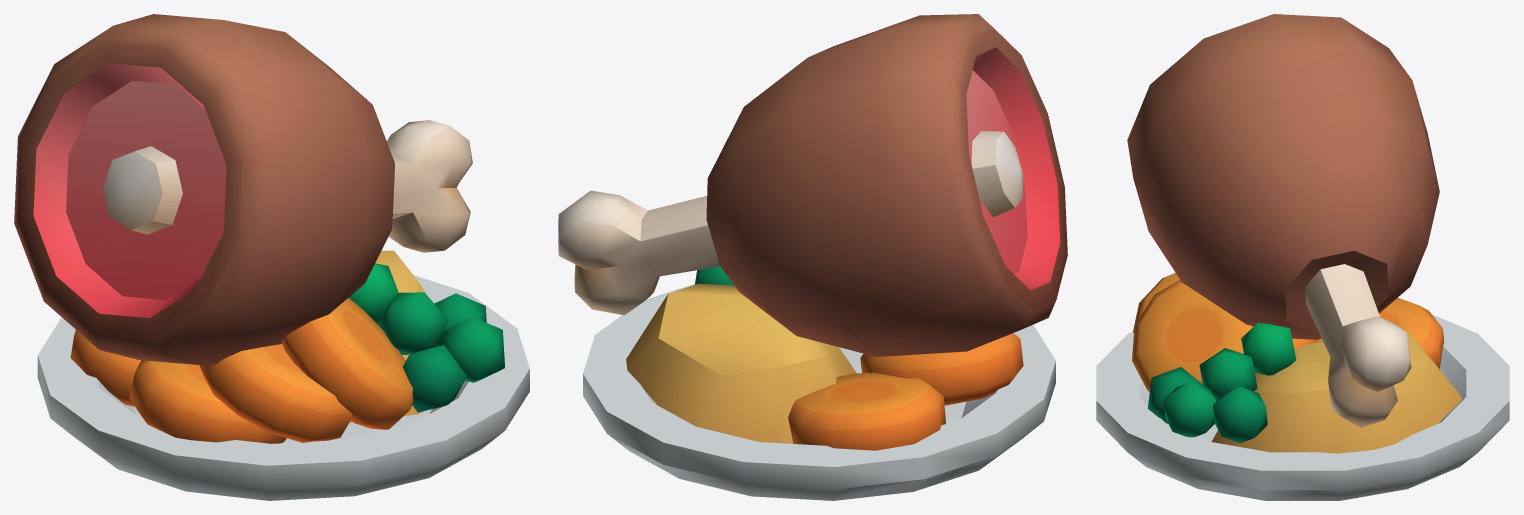
File: food-dinner-001.glb
3 renders of one model, left to right at view 1: azimuth 30°, elevation 25°; view 2: azimuth 150°, elevation 25°; view 3: azimuth 270°, elevation 25°, orthographic. The views are drawn at different scales.
Parts seen in each view (by area): view 1: food_dinner; view 2: food_dinner; view 3: food_dinner.
Boxes of the visible parts, x1,y1,x2,y2 form: food_dinner: (14,14,529,500); food_dinner: (558,14,1067,500); food_dinner: (1096,14,1509,500).
Size of the model in its own units: 1.04 by 0.9079 by 0.9501.
1 material, 1 textured.
